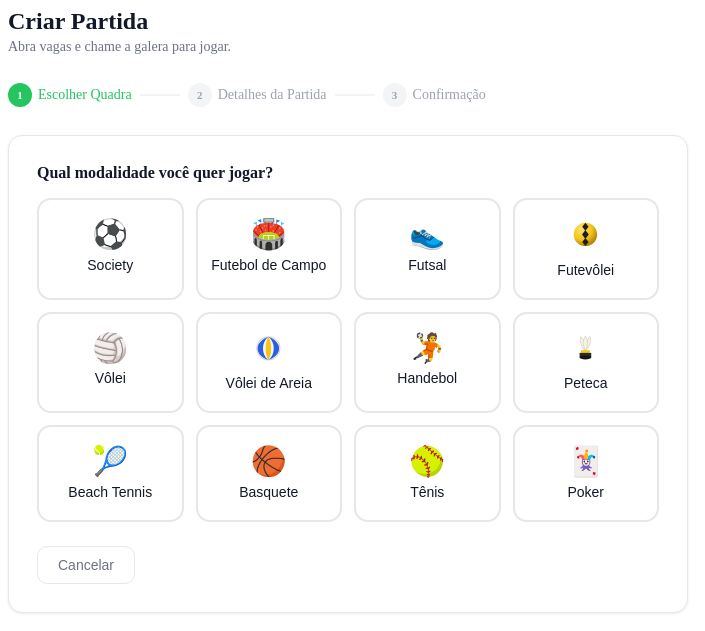
CriarPartida — chegar ao formulário › avisa quando não há quadra nenhuma cadastrada
Click the button "⚽ Society".
click(110, 249)  # box [37, 198, 184, 300]
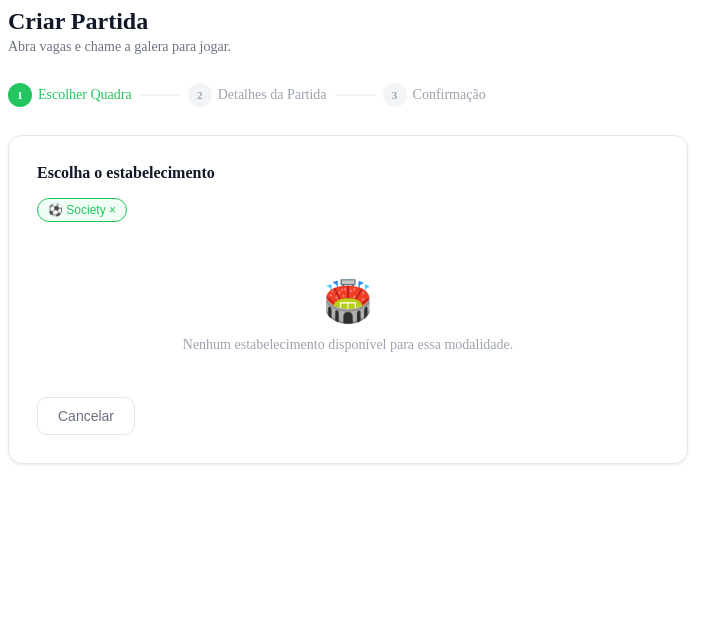
Expected: the text "Nenhum estabelecimento disponível para essa modalidade." is shown, [183, 337, 513, 352]
